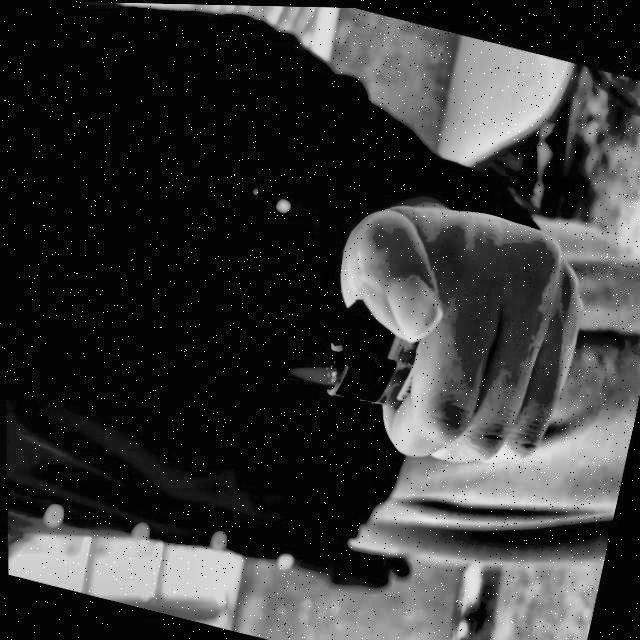Fire: (272, 350, 336, 387)
